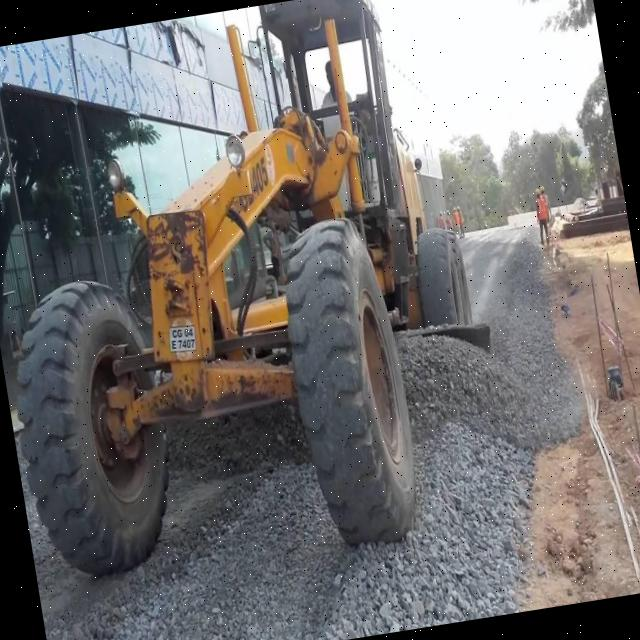Grader: (0, 0, 549, 599)
